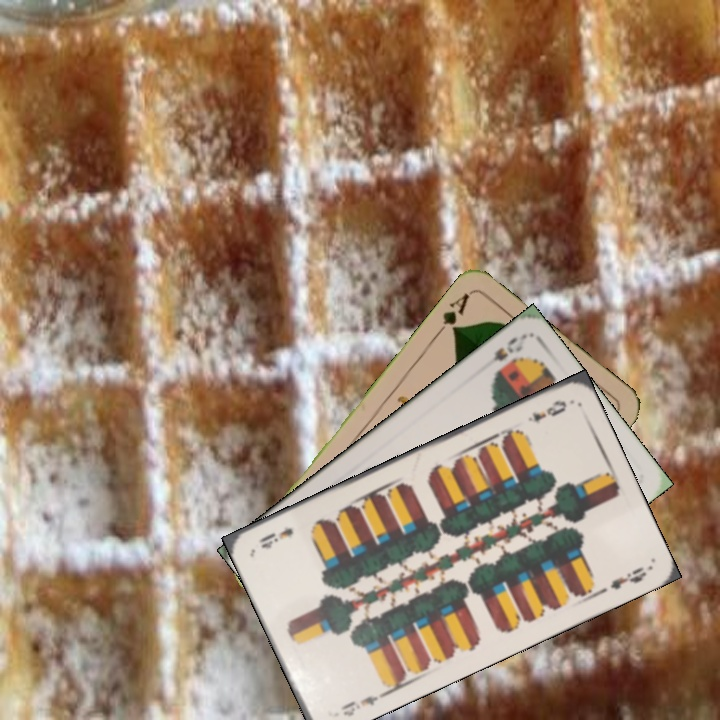E9: (336, 688, 387, 719), (523, 396, 570, 426)
GA: (431, 289, 473, 340)
SO: (489, 332, 527, 364)
